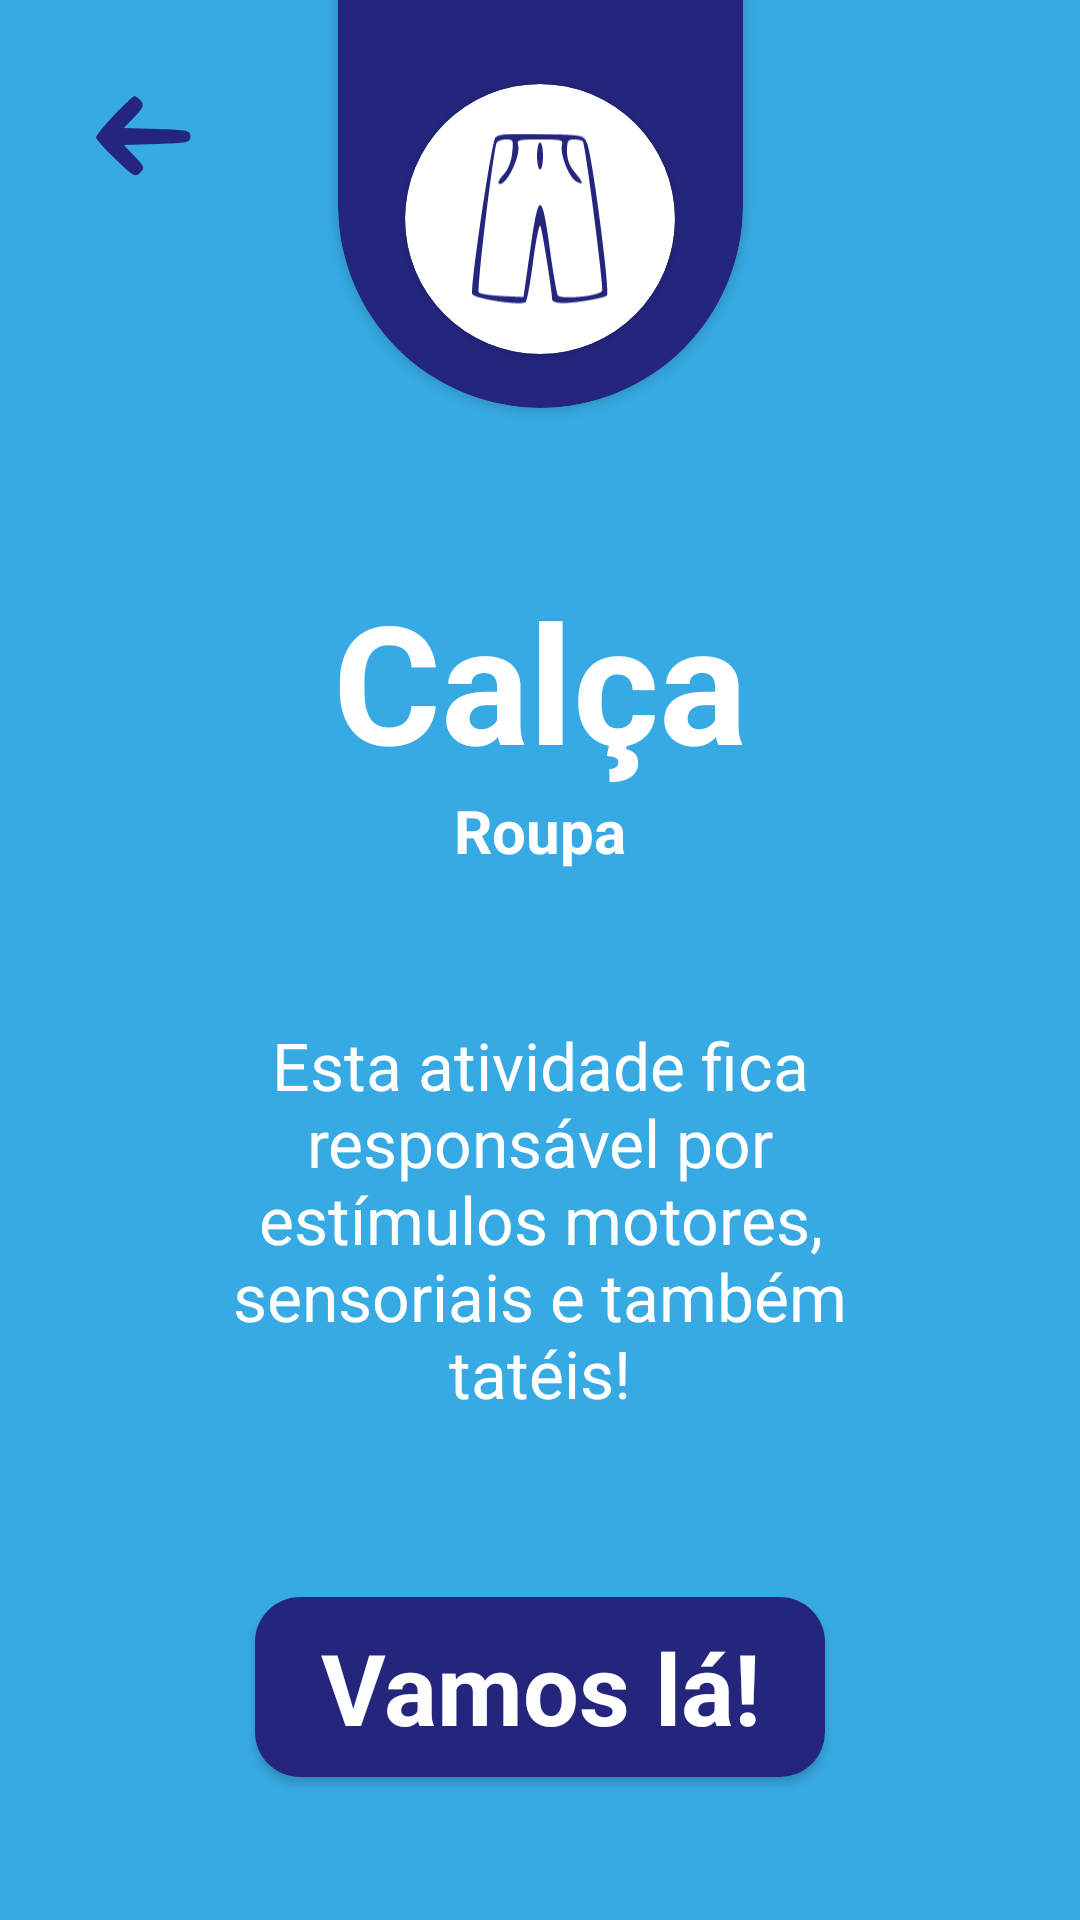

Icons on this 1080×1920 Android screen, each with the point to tap as (x=x, y=y):
arrow: (x=143, y=136)
